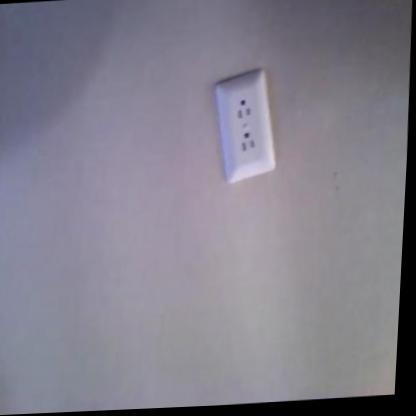OUTLET: (205, 67, 281, 185)
